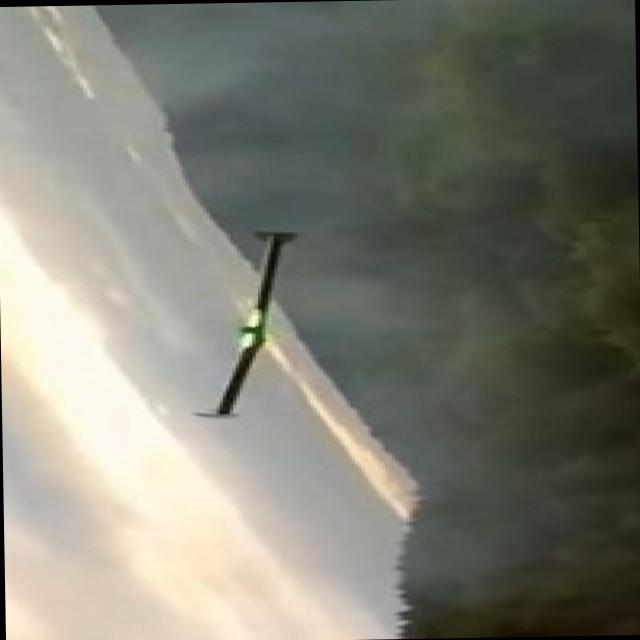UAV: (182, 214, 314, 416)
